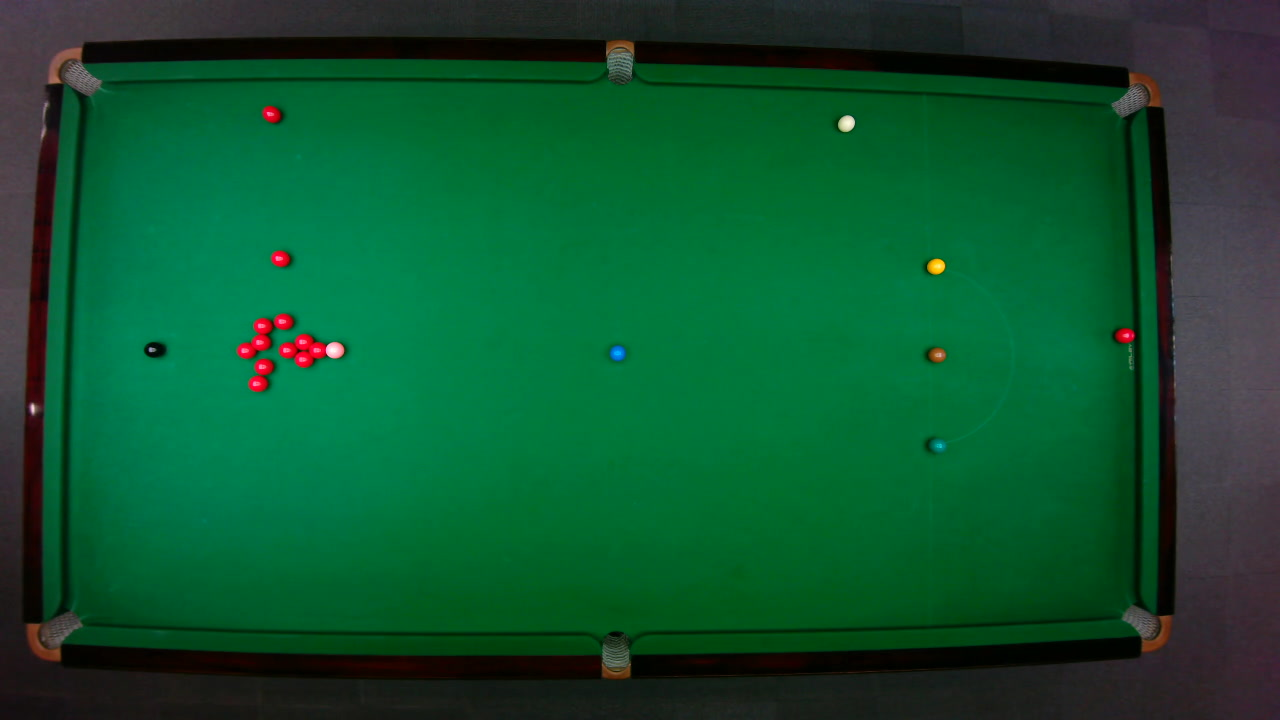bag: (25, 609, 83, 662), (45, 46, 101, 96), (1119, 603, 1172, 652), (1108, 71, 1161, 118), (600, 629, 629, 680), (605, 38, 633, 85)
black: (142, 340, 164, 357)
blue: (608, 343, 626, 362)
brown: (926, 346, 946, 362)
green: (926, 435, 946, 453)
pink: (323, 340, 345, 359)
red: (261, 104, 282, 123), (252, 357, 274, 375), (234, 341, 256, 359), (246, 374, 268, 392), (249, 333, 270, 351), (269, 249, 290, 267), (293, 350, 314, 368), (272, 312, 293, 330), (1113, 326, 1135, 343), (252, 316, 272, 334), (277, 340, 297, 358), (293, 332, 313, 349), (308, 340, 325, 359)
white: (836, 114, 856, 132)
yellow: (925, 257, 946, 274)
zone: (926, 265, 1014, 445)
